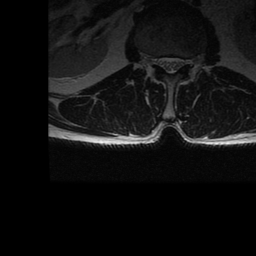CCS_normal: (167, 50, 174, 78)
LFS_stenosis: (182, 51, 190, 72)
LLS_normal: (174, 51, 181, 75)
RFS_normal: (150, 49, 158, 70)
RLS_normal: (158, 50, 166, 74)
